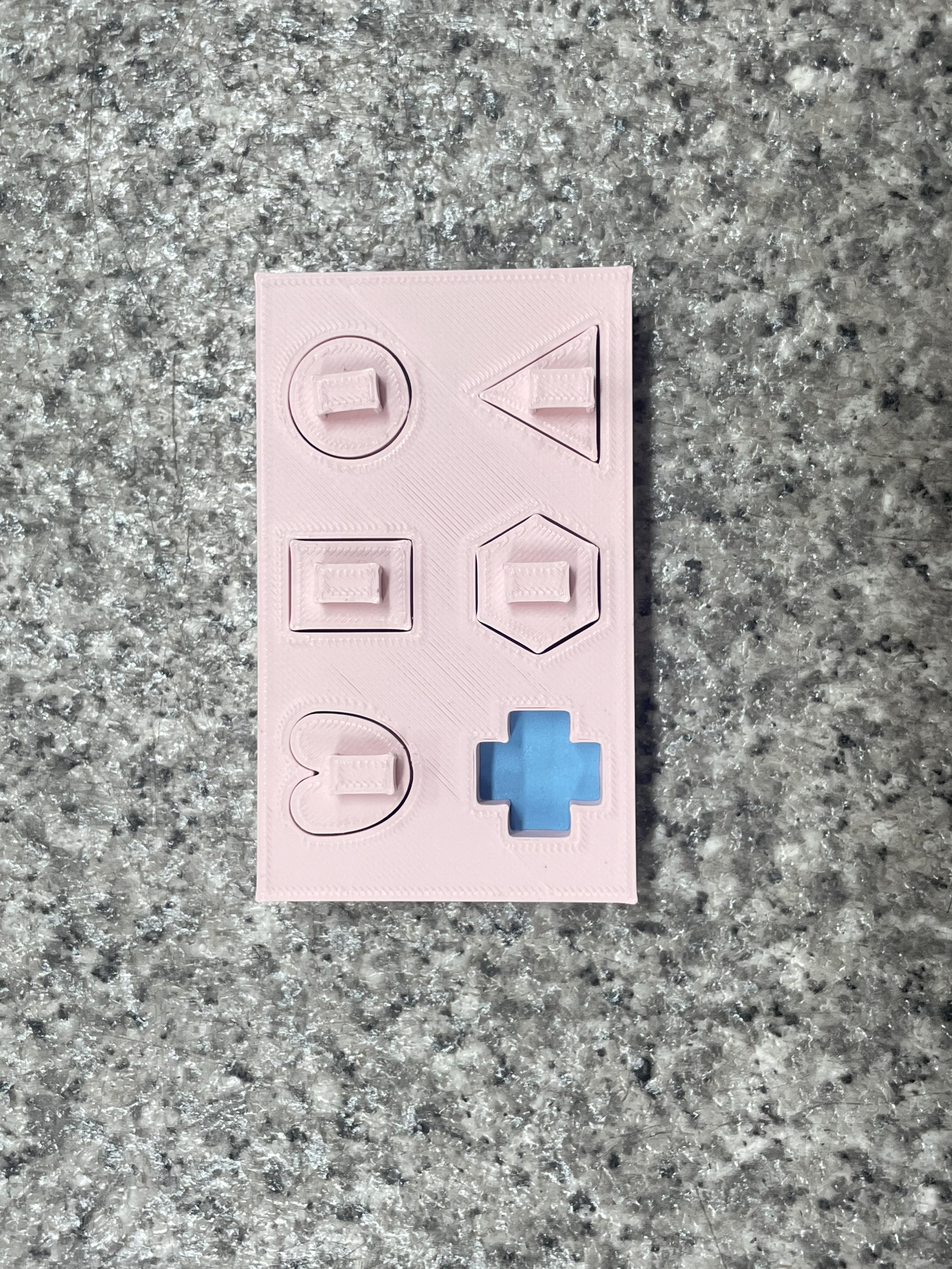unsolved: (233, 252, 677, 923)
